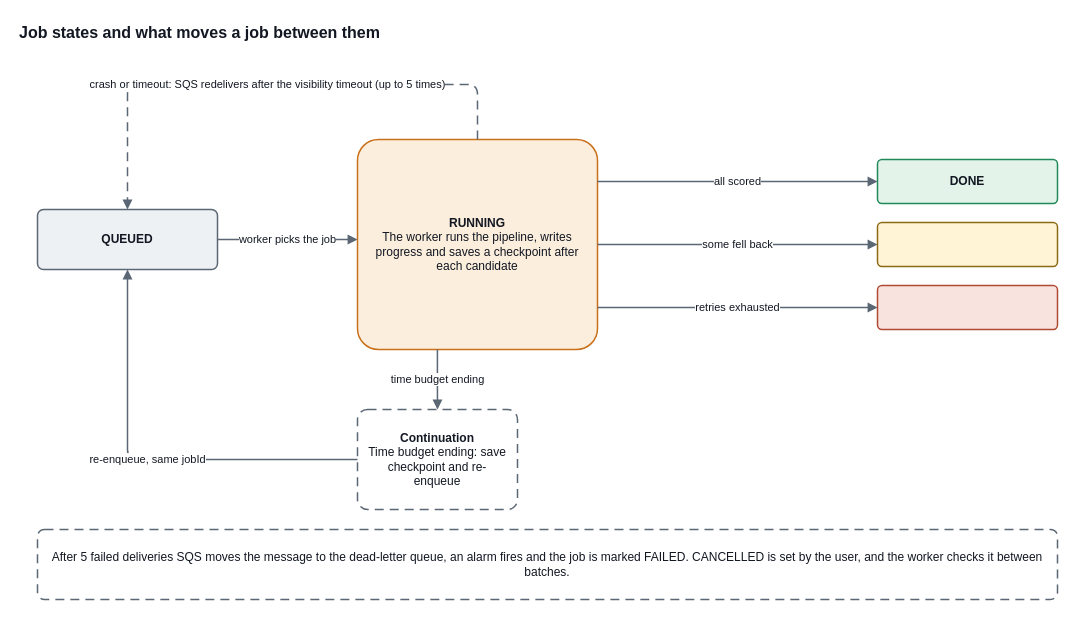
Some shapes in this 1075 by 617 pixel diagram are drawn without their labels. The shapes that lost their labels are listed below. From the top down, each one's centre as x and y in pixels, then its label:
At (x=967, y=244): "PARTIAL".
At (x=967, y=307): "FAILED".
